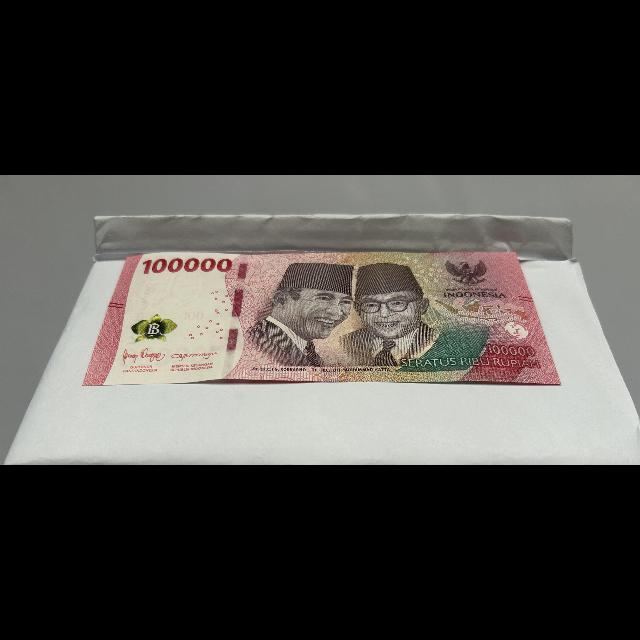Asli-100k: (78, 248, 565, 389)
Tinta-Asli-100k: (125, 312, 182, 345)
